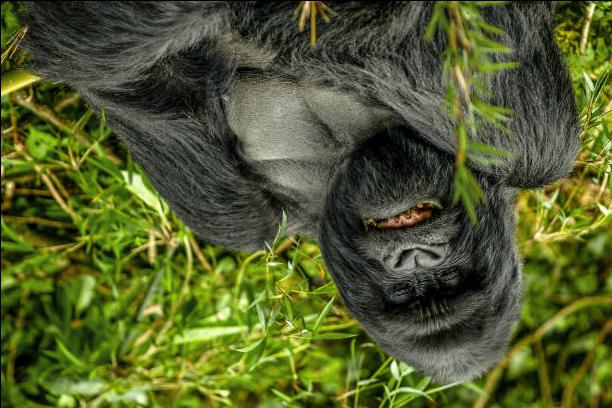goriile_montagne: (47, 7, 574, 397)
